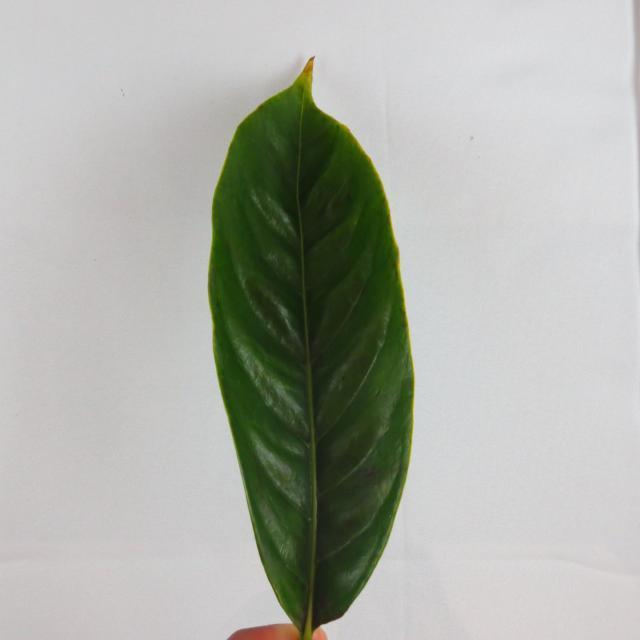DeficienciaNutricional-Boro: (209, 60, 414, 638)
